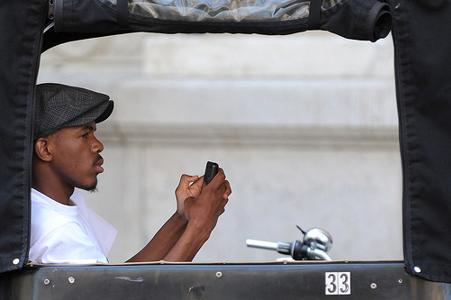person: (28, 82, 232, 264)
